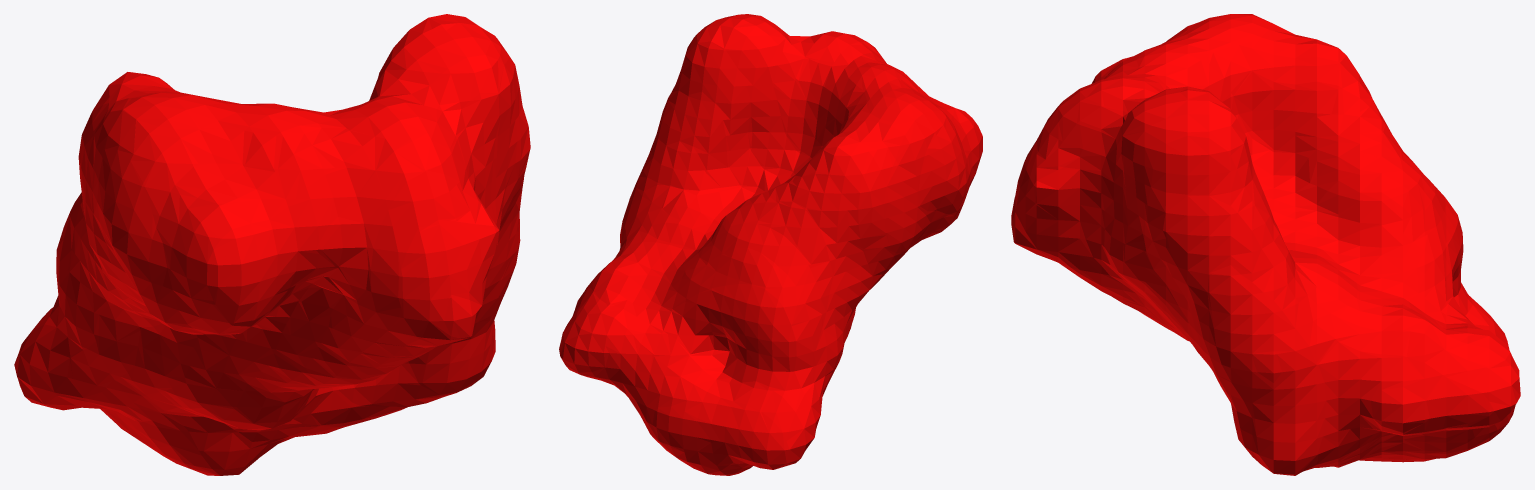
The model's file is tatC_coarse.dae.
3 views of the same model, side by side, from view 1: azimuth 30°, elevation 25°; view 2: azimuth 150°, elevation 25°; view 3: azimuth 270°, elevation 25° (orthographic). The views are drawn at different scales.
Parts seen in each view (by area): view 1: tatC; view 2: tatC; view 3: tatC.
Part boxes in pixels (<box>): tatC: <box>14,14,530,475</box>; tatC: <box>559,14,982,475</box>; tatC: <box>1011,14,1520,475</box>.
Bounding box in the file's own units: 48.68 × 53.6 × 59.61.
